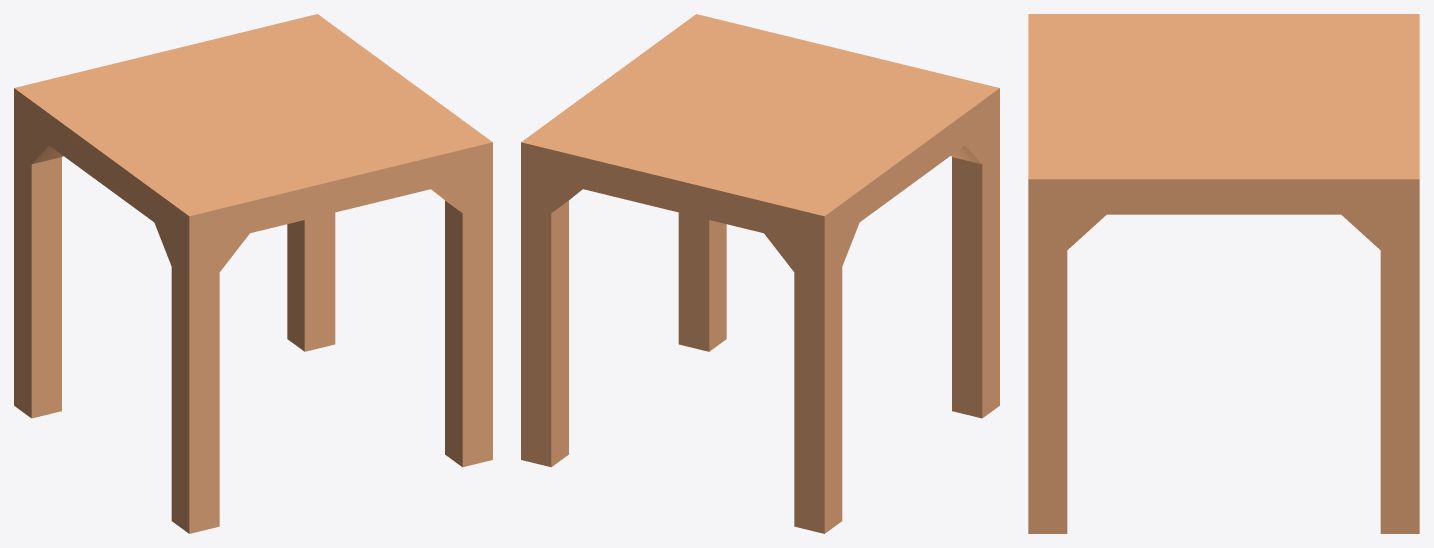
Rendered from Columns_002.fbx.
3 renders of one model, left to right at view 1: azimuth 30°, elevation 25°; view 2: azimuth 150°, elevation 25°; view 3: azimuth 270°, elevation 25°, orthographic. The views are drawn at different scales.
Visible parts, largest first — view 1: Columns.002; view 2: Columns.002; view 3: Columns.002.
Boxes of the visible parts, x1,y1,x2,y2 form: Columns.002: (14,14,492,533); Columns.002: (521,14,999,533); Columns.002: (1028,14,1419,533).
Bounding box in the file's own units: 100 × 100 × 100.
